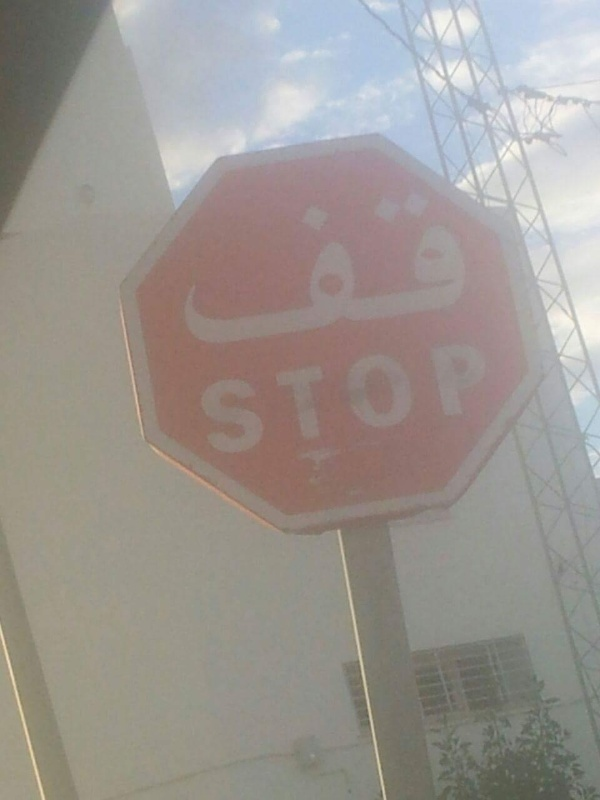text: (177, 185, 192, 351), (193, 185, 208, 351), (209, 185, 224, 351), (225, 185, 240, 351), (241, 185, 256, 351), (257, 185, 272, 351), (273, 185, 288, 351), (289, 185, 304, 351), (305, 185, 320, 351), (321, 185, 336, 351), (337, 185, 352, 351), (353, 185, 368, 351), (369, 185, 384, 351), (385, 185, 400, 351), (401, 185, 416, 351), (417, 185, 432, 351), (433, 185, 448, 351), (449, 185, 464, 351), (481, 337, 497, 457), (465, 185, 476, 351), (209, 337, 224, 457), (225, 337, 240, 457), (241, 337, 256, 457), (257, 337, 272, 457), (273, 337, 288, 457), (289, 337, 304, 457), (305, 337, 320, 457), (321, 337, 336, 457), (337, 337, 352, 457), (353, 337, 368, 457), (369, 337, 384, 457), (385, 337, 400, 457), (401, 337, 416, 457), (417, 337, 432, 457), (433, 337, 448, 457), (449, 337, 464, 457), (465, 337, 480, 457), (195, 337, 208, 457), (174, 185, 176, 351)
